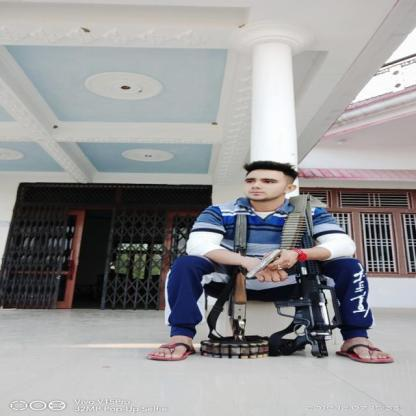handgun: (240, 248, 288, 279)
